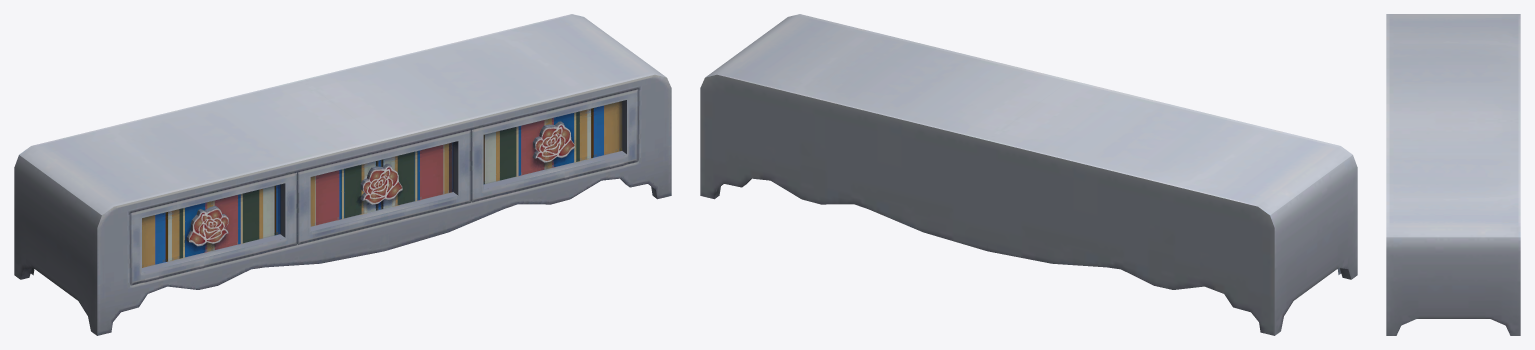
Rendered from furni_0200607.FBX.
3 renders of one model, left to right at view 1: azimuth 30°, elevation 25°; view 2: azimuth 150°, elevation 25°; view 3: azimuth 270°, elevation 25°, orthographic. The views are drawn at different scales.
Parts seen in each view (by area): view 1: furni_0200607; view 2: furni_0200607; view 3: furni_0200607.
Boxes of the visible parts, x1=… form: furni_0200607: x1=14, y1=14, x2=671, y2=335; furni_0200607: x1=700, y1=14, x2=1357, y2=335; furni_0200607: x1=1386, y1=14, x2=1520, y2=335.
Bounding box in the file's own units: 240 × 50 × 60.
Materials: 1 (1 with a texture image).
